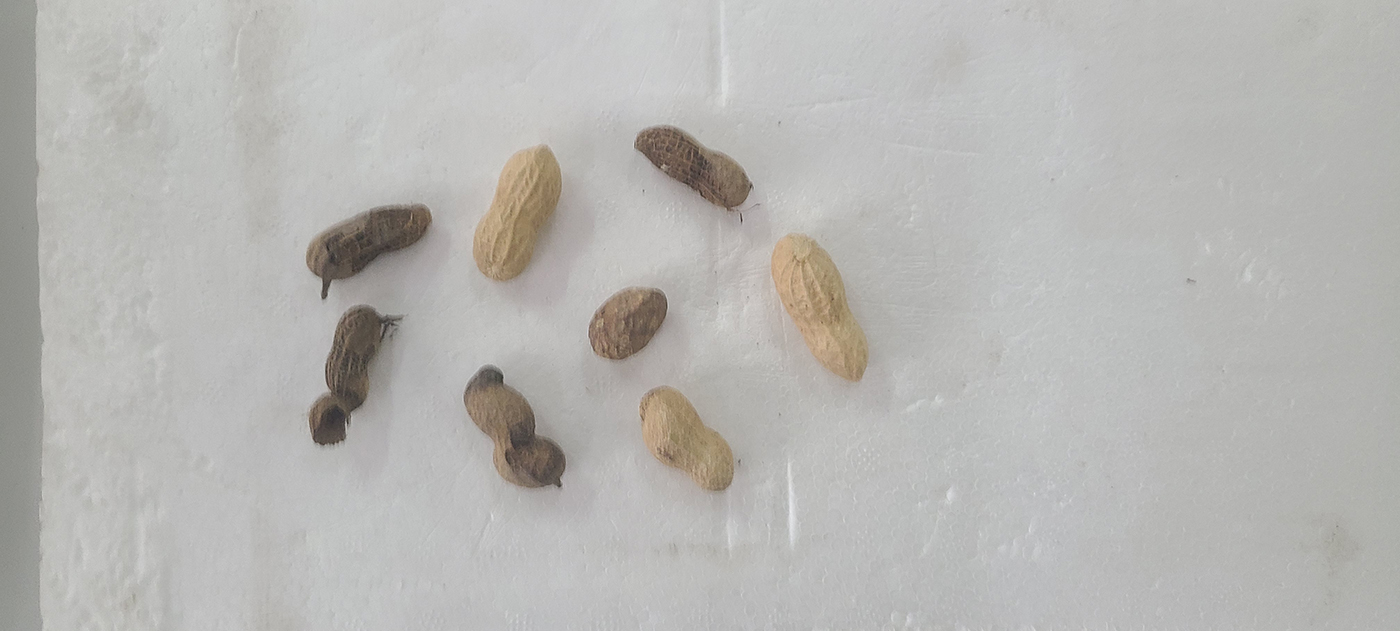h: (768, 233, 868, 383), (472, 143, 562, 280), (639, 386, 736, 493)
l: (462, 364, 570, 489), (307, 303, 386, 445), (305, 204, 432, 280), (634, 126, 752, 206), (586, 286, 669, 359)
